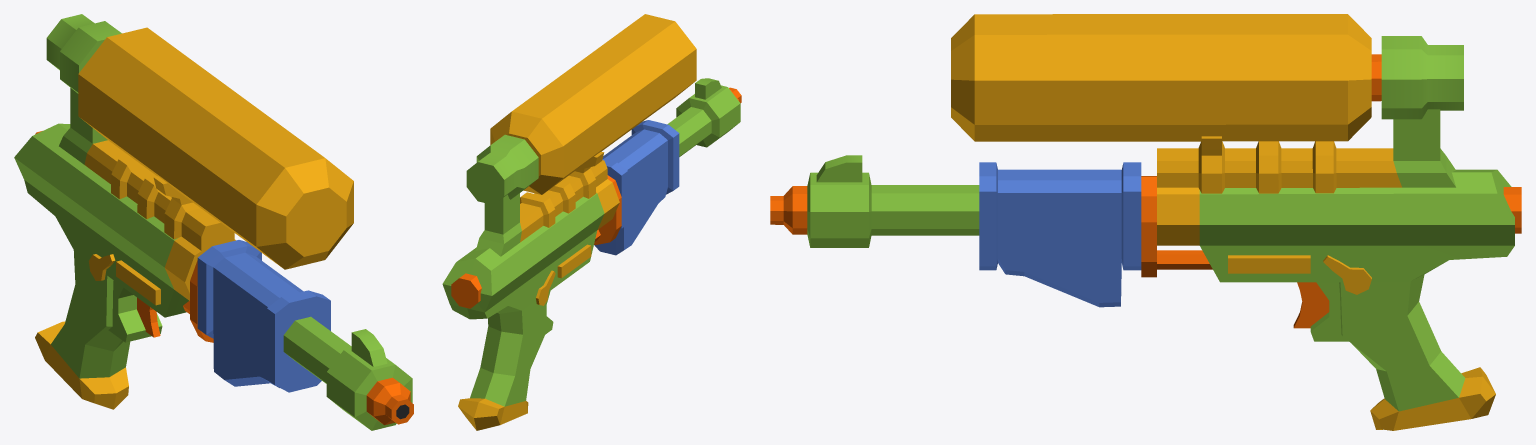
Rendered from SM_Wep_Watergun_01.fbx.
The picture shows the model from 3 angles, left to right: view 1: azimuth 30°, elevation 25°; view 2: azimuth 150°, elevation 25°; view 3: azimuth 270°, elevation 25°; orthographic projection. The views are drawn at different scales.
Parts seen in each view (by area): view 1: SM_Wep_Watergun_01, Watergun_01_Refill, Watergun_01_Pump, Watergun_01_Trigger; view 2: SM_Wep_Watergun_01, Watergun_01_Refill, Watergun_01_Pump; view 3: SM_Wep_Watergun_01, Watergun_01_Refill, Watergun_01_Pump, Watergun_01_Trigger.
Part boxes in pixels (left/top/right/bottom): SM_Wep_Watergun_01: left=14, top=14, right=413, bottom=430; Watergun_01_Refill: left=78, top=27, right=353, bottom=269; Watergun_01_Pump: left=197, top=240, right=330, bottom=392; Watergun_01_Trigger: left=137, top=297, right=160, bottom=337; SM_Wep_Watergun_01: left=442, top=78, right=741, bottom=430; Watergun_01_Refill: left=490, top=14, right=696, bottom=194; Watergun_01_Pump: left=594, top=120, right=679, bottom=255; SM_Wep_Watergun_01: left=770, top=36, right=1521, bottom=430; Watergun_01_Refill: left=951, top=14, right=1381, bottom=141; Watergun_01_Pump: left=979, top=162, right=1141, bottom=307; Watergun_01_Trigger: left=1293, top=282, right=1329, bottom=328.
Bounding box in the file's own units: 8.62 × 32.71 × 54.93.
1 material, 1 textured.
